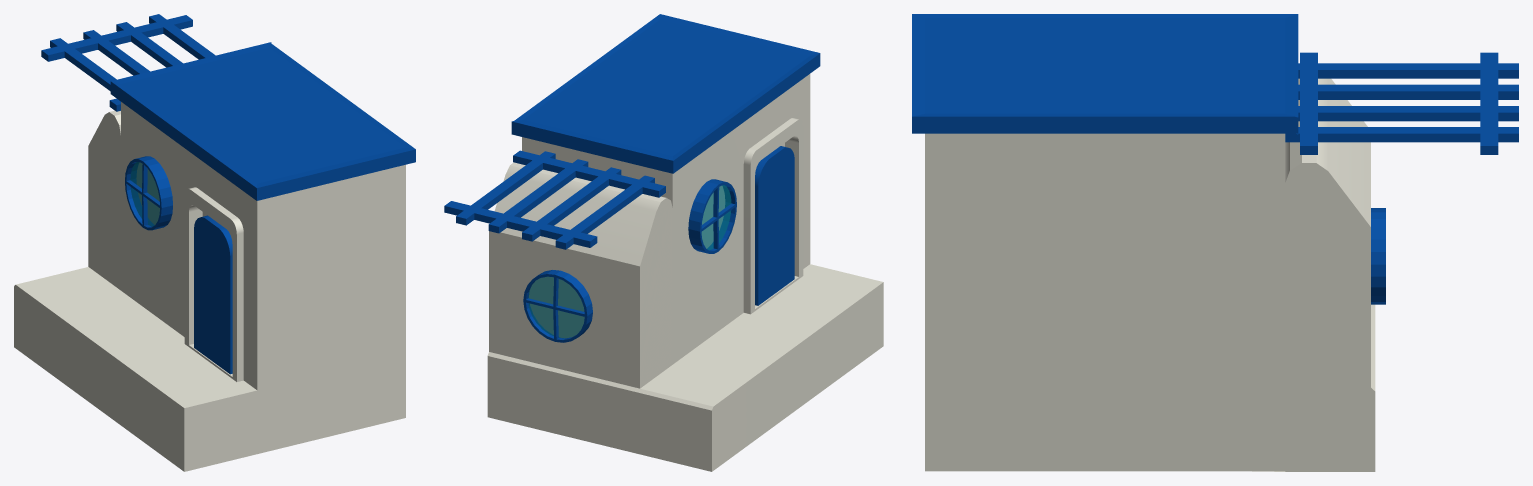
File: fillerBuilding_01.fbx
3 views of the same model, side by side, from view 1: azimuth 30°, elevation 25°; view 2: azimuth 150°, elevation 25°; view 3: azimuth 270°, elevation 25° (orthographic). The views are drawn at different scales.
Visible parts, largest first — view 1: polySurface125; view 2: polySurface125; view 3: polySurface125.
Boxes of the visible parts, box(x1,y1,x2,y2) form: polySurface125: box(14, 14, 415, 471); polySurface125: box(444, 14, 883, 471); polySurface125: box(912, 14, 1518, 471).
Size of the model in its own units: 4.21 by 4.78 by 7.35.
